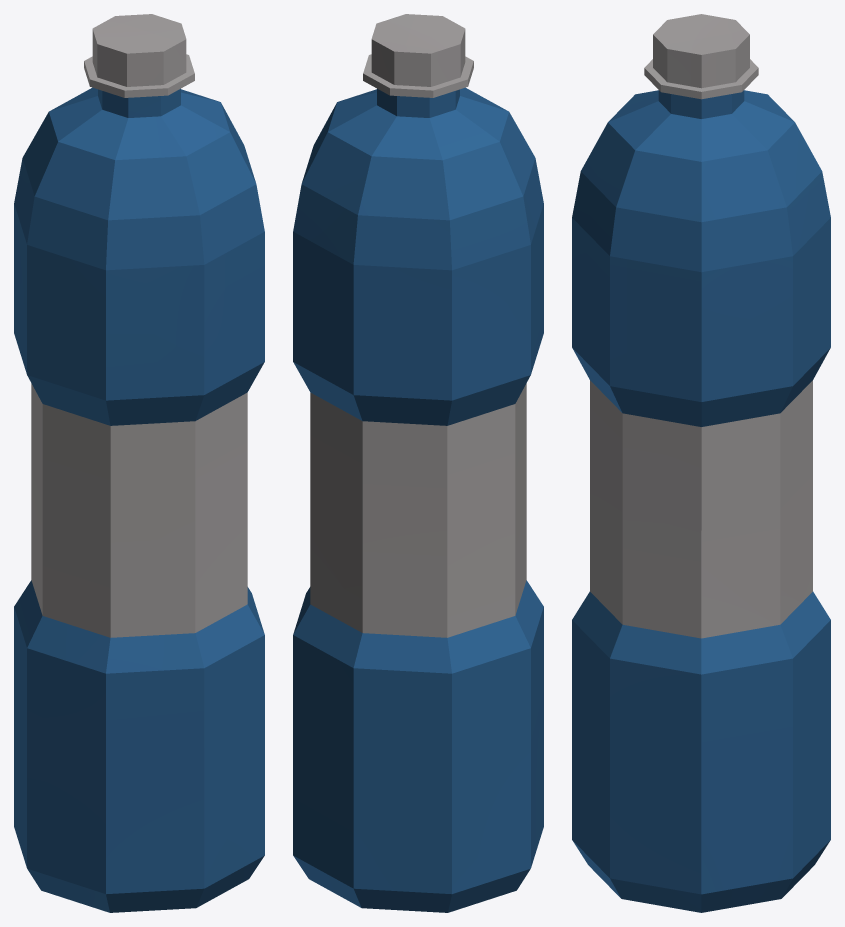
The model's file is PlasticBottle.fbx.
The picture shows the model from 3 angles, left to right: view 1: azimuth 30°, elevation 25°; view 2: azimuth 150°, elevation 25°; view 3: azimuth 270°, elevation 25°; orthographic projection.
Visible parts, largest first — view 1: Plastic Bottle; view 2: Plastic Bottle; view 3: Plastic Bottle.
Boxes of the visible parts, x1,y1,x2,y2 form: Plastic Bottle: (14,14,264,912); Plastic Bottle: (293,14,543,912); Plastic Bottle: (572,14,830,912).
Size of the model in its own units: 5.77 by 20.43 by 5.77.
1 material, 1 textured.
